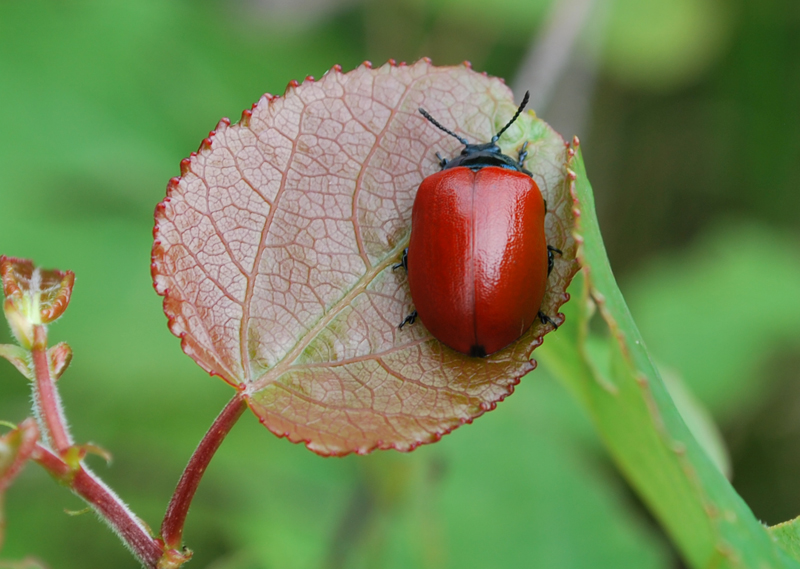Chrysomela_populi: (386, 86, 557, 361)
